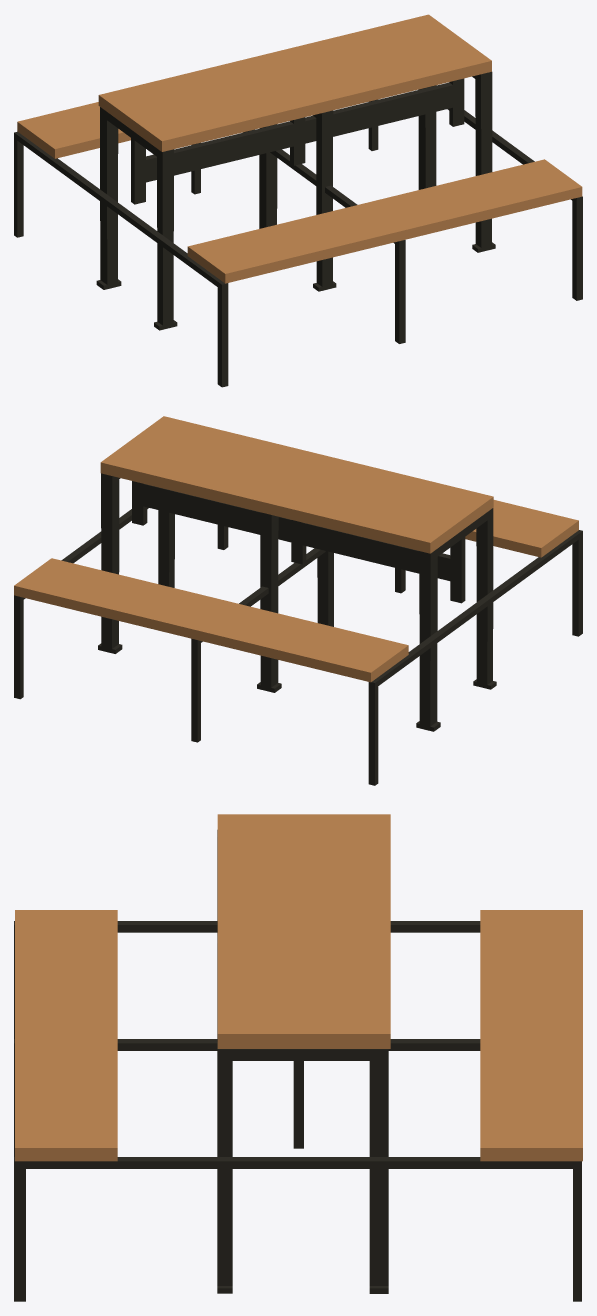
The model's file is tablev4.fbx.
3 renders of one model, top to bottom at view 1: azimuth 30°, elevation 25°; view 2: azimuth 150°, elevation 25°; view 3: azimuth 270°, elevation 25°, orthographic. The views are drawn at different scales.
Visible parts, largest first — view 1: Cube.001; view 2: Cube.001; view 3: Cube.001.
Boxes of the visible parts, x1=… form: Cube.001: x1=14, y1=14, x2=582, y2=387; Cube.001: x1=14, y1=416, x2=582, y2=785; Cube.001: x1=14, y1=814, x2=582, y2=1301.
Size of the model in its own units: 300 by 150 by 300.
